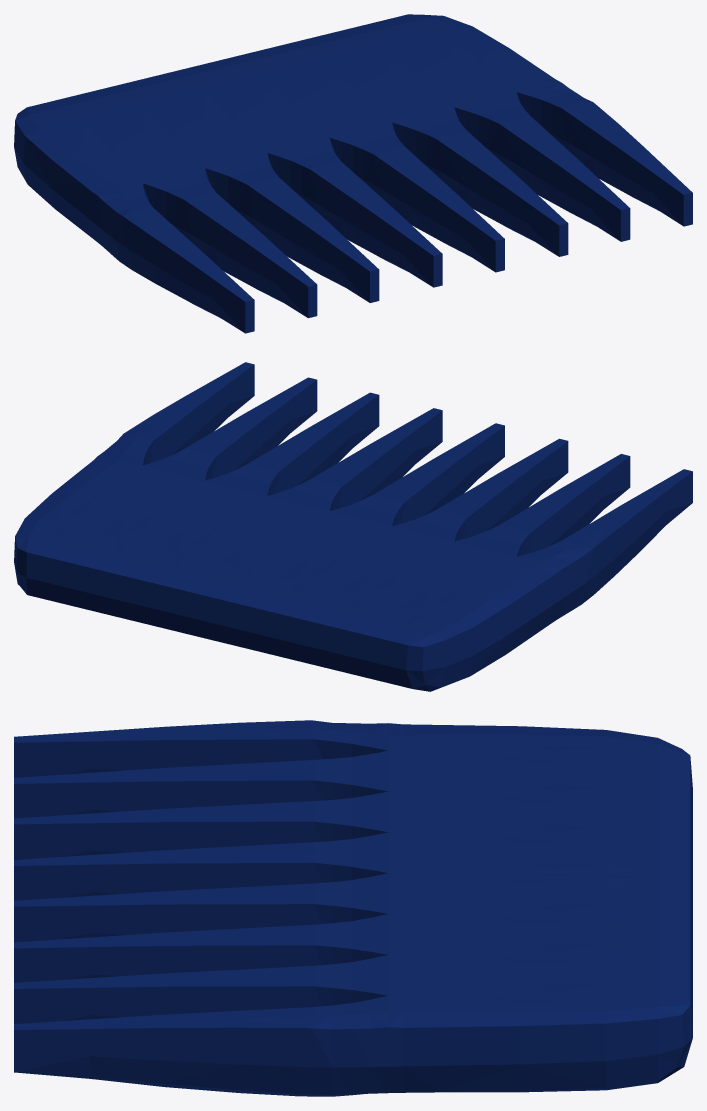
The model's file is com_bath2_peineta.obj.
3 renders of one model, top to bottom at view 1: azimuth 30°, elevation 25°; view 2: azimuth 150°, elevation 25°; view 3: azimuth 270°, elevation 25°, orthographic. The views are drawn at different scales.
Parts seen in each view (by area): view 1: 1_1; view 2: 1_1; view 3: 1_1.
Part boxes in pixels (box(x1,y1,x2,y2)): 1_1: box(14, 14, 692, 333); 1_1: box(14, 362, 692, 691); 1_1: box(14, 720, 692, 1096).
Size of the model in its own units: 6.6 by 0.8051 by 6.14.
